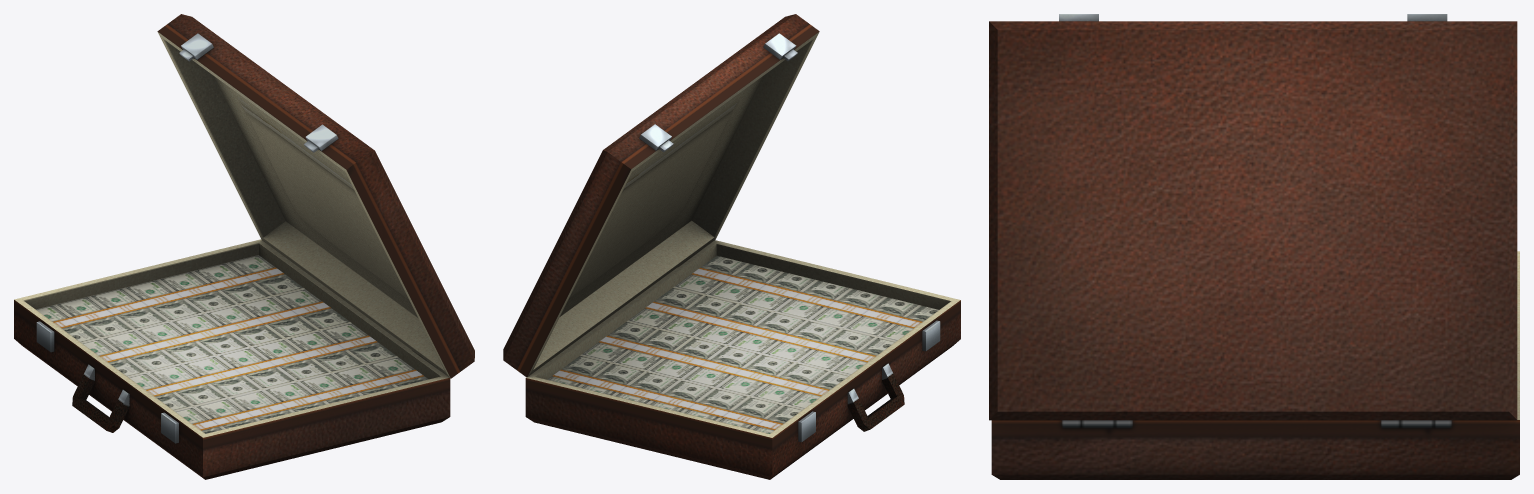
File: Loot_briefcase_open.FBX
3 renders of one model, left to right at view 1: azimuth 30°, elevation 25°; view 2: azimuth 150°, elevation 25°; view 3: azimuth 270°, elevation 25°, orthographic. The views are drawn at different scales.
Visible parts, largest first — view 1: Loot_briefcase_open; view 2: Loot_briefcase_open; view 3: Loot_briefcase_open.
Part boxes in pixels (x1,y1,x2,y2): Loot_briefcase_open: (14,14,474,479); Loot_briefcase_open: (503,14,960,479); Loot_briefcase_open: (989,14,1519,479).
Bounding box in the file's own units: 54.53 × 52.21 × 61.
